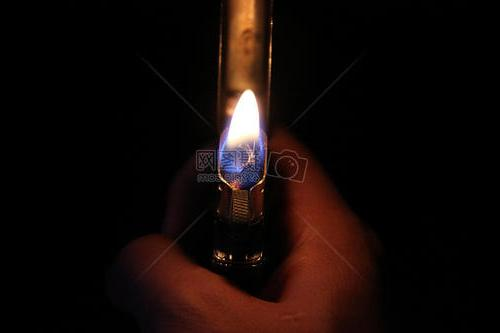fire: (211, 84, 275, 196)
